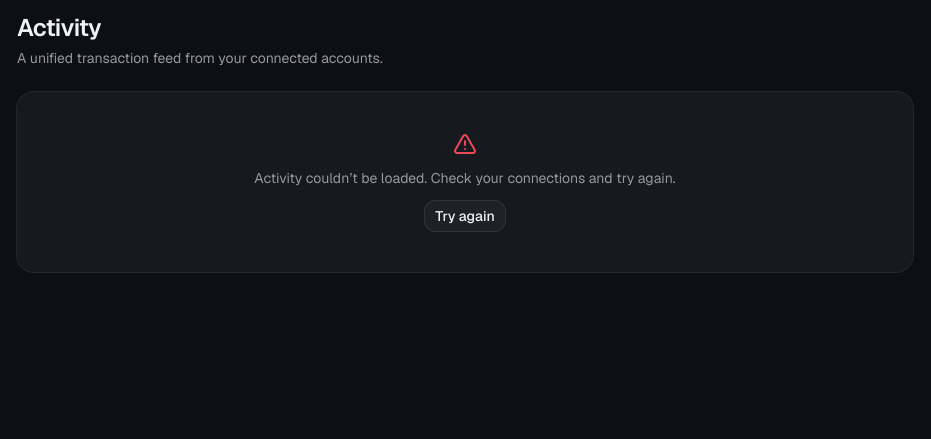
Test: ActivityFeed › offers retry after the initial request fails
Expected: the message "Activity couldn’t be loaded. Check your connections and try again." is shown, [254,168,676,188]
Click the button "Try again" at (465, 216), box [424,200,506,232]
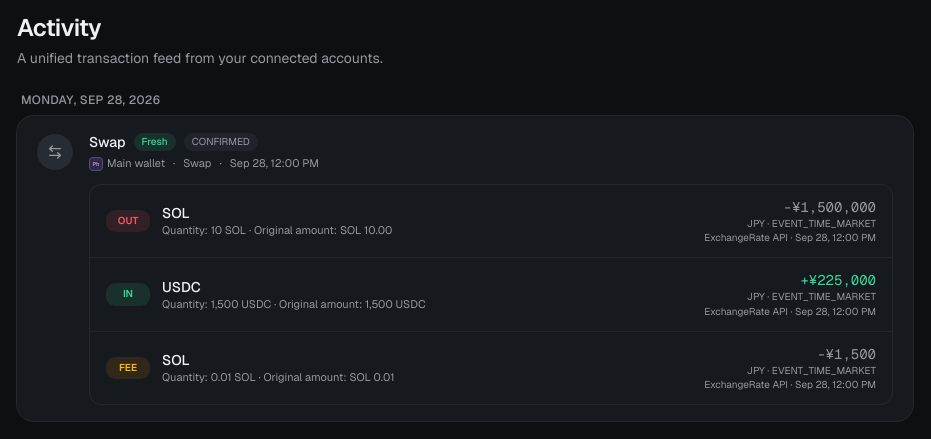
Result: the heading "Swap" is shown at [89,132,126,152]
